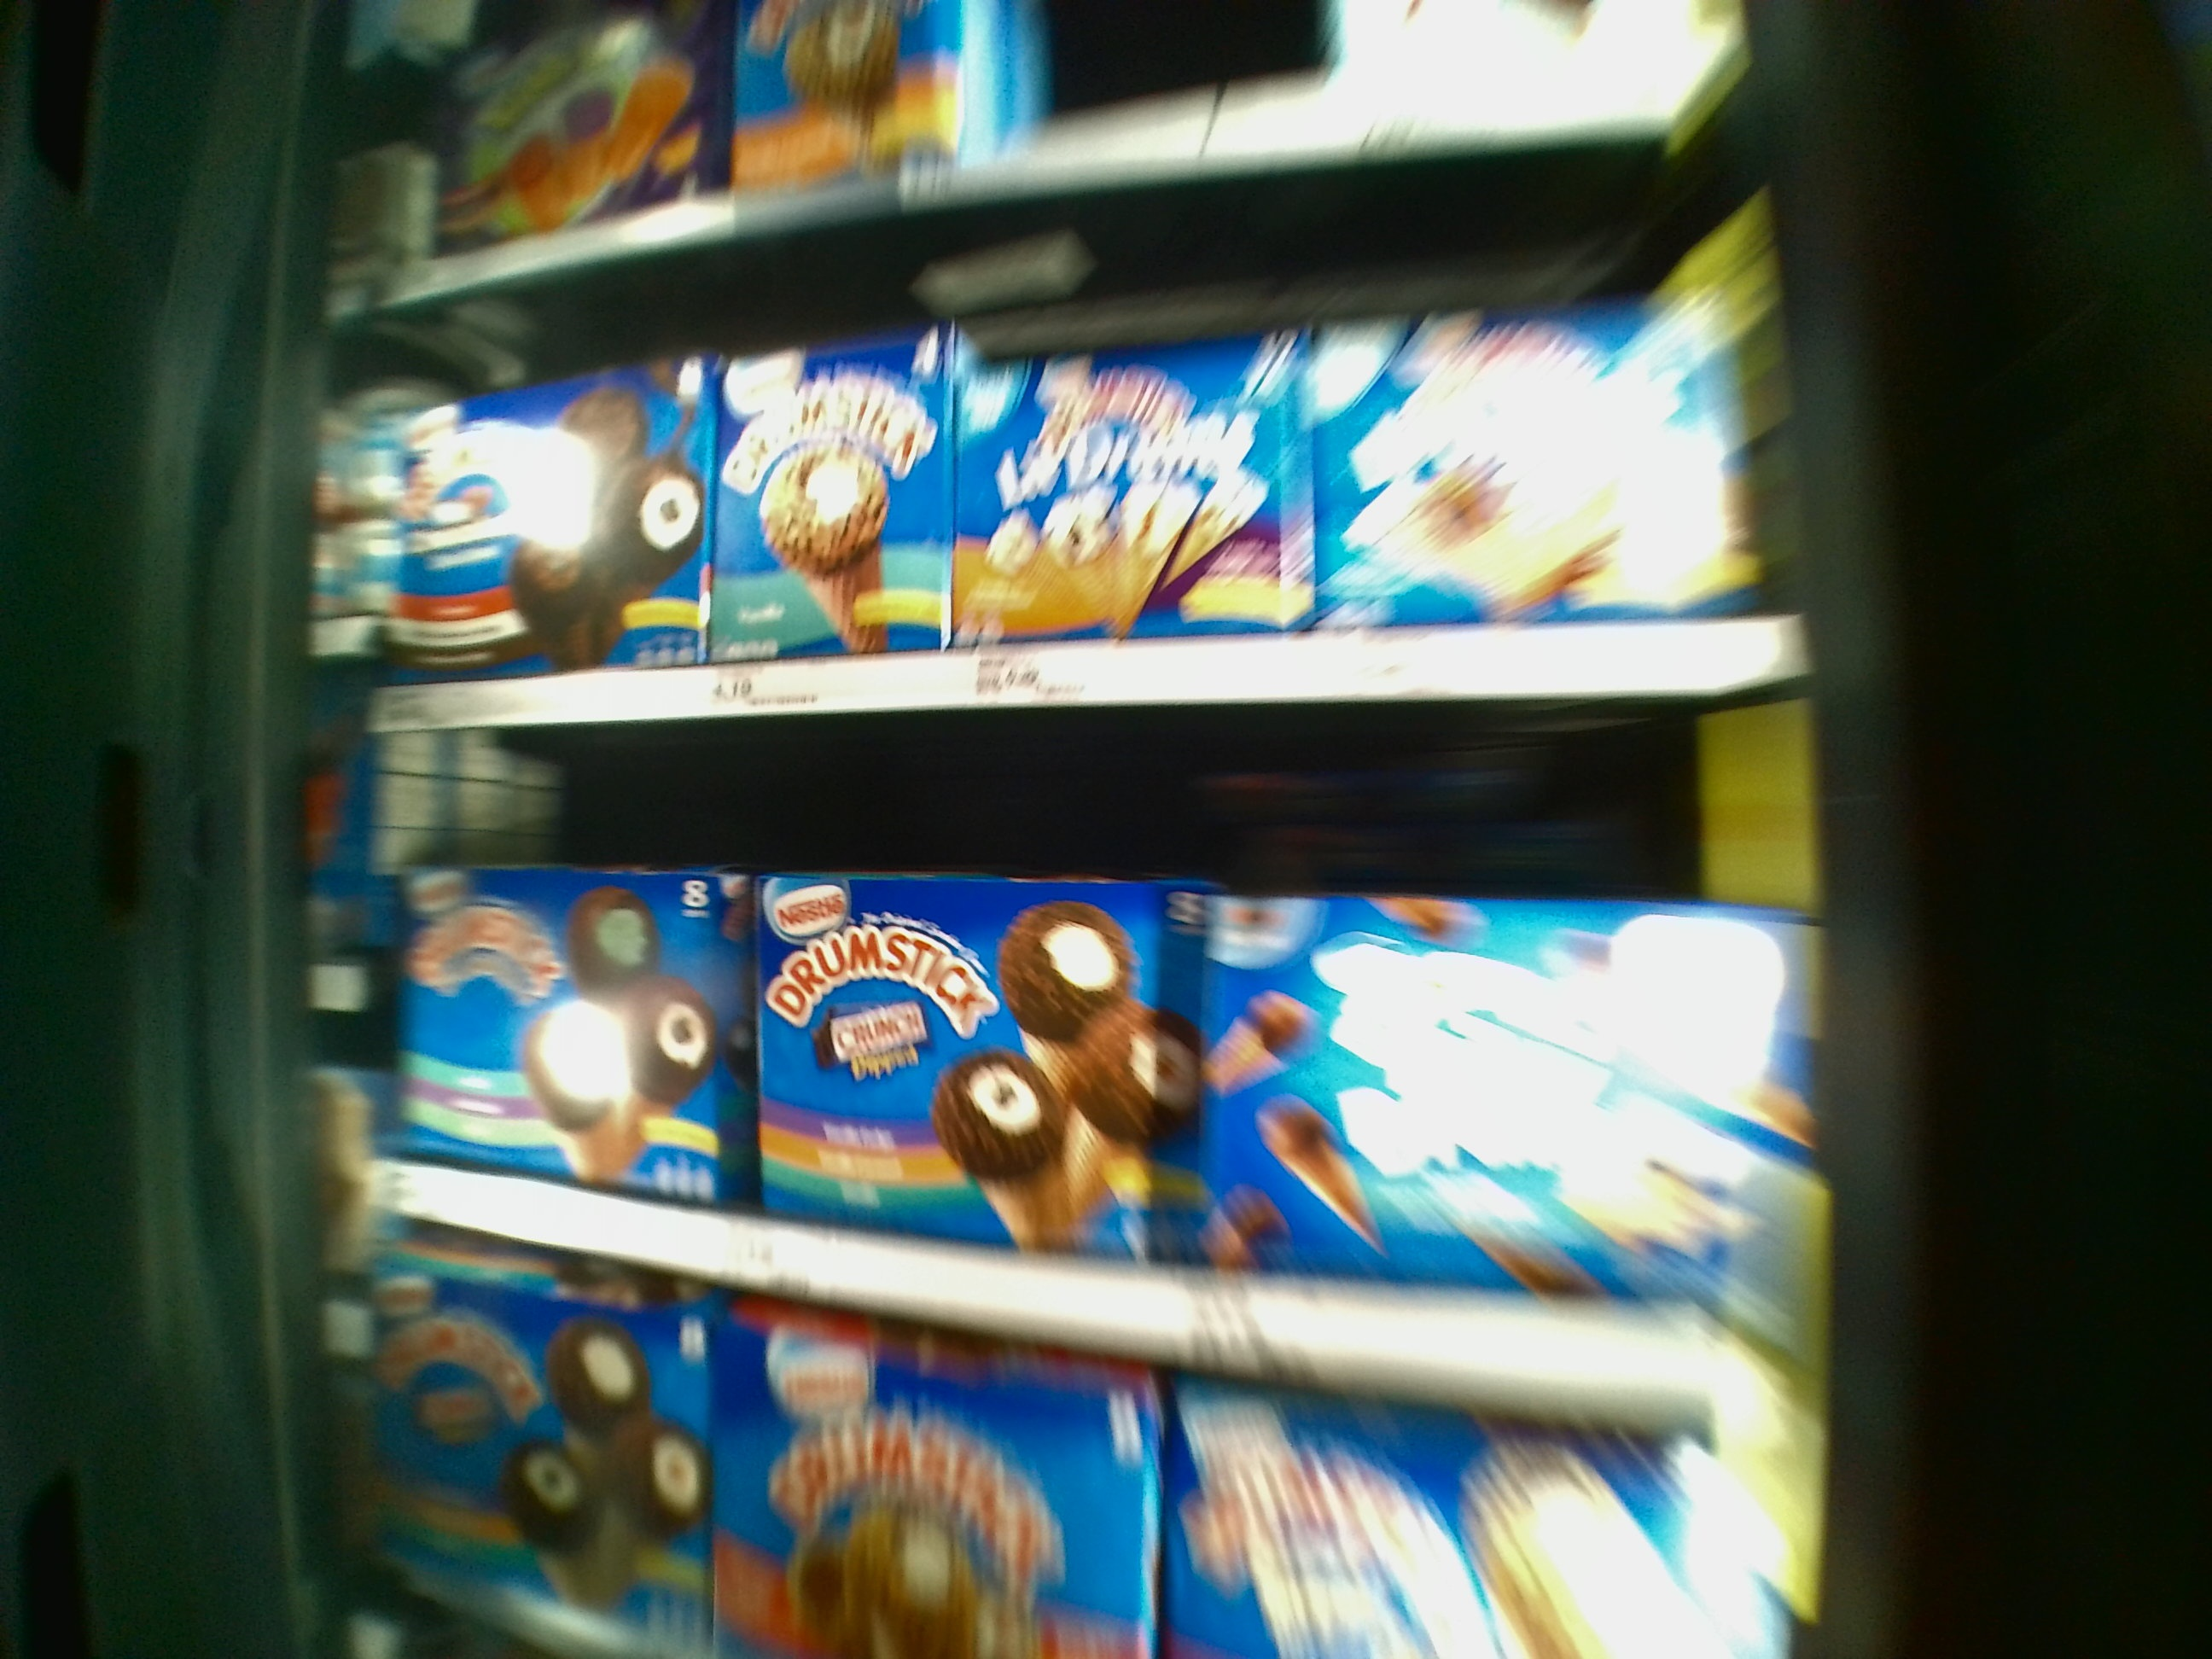shelf: (361, 702, 1817, 1335), (333, 223, 1796, 706)
